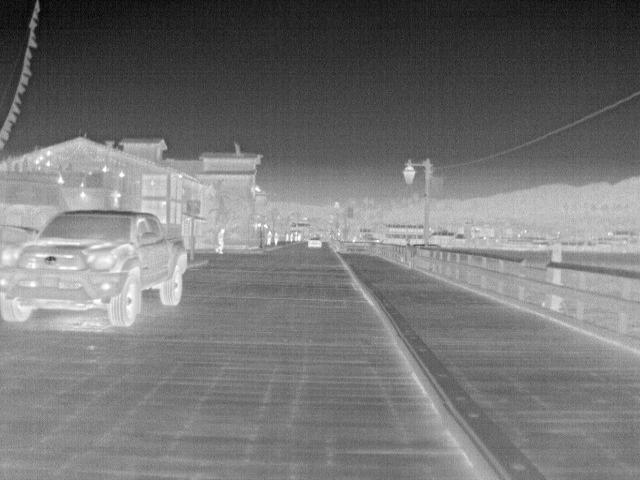car: (0, 208, 188, 326), (0, 222, 39, 250), (306, 234, 322, 250)
person: (212, 227, 226, 255), (264, 228, 274, 246), (272, 230, 280, 246)
